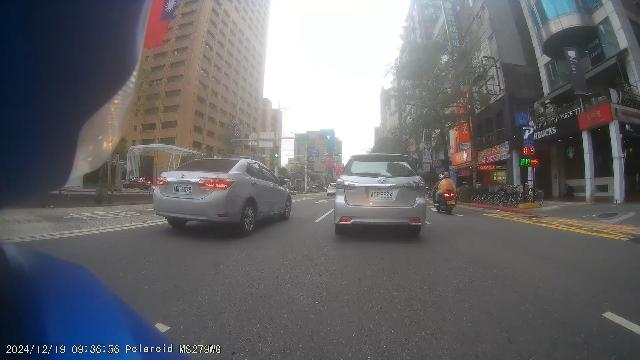plate: (368, 188, 396, 199), (171, 184, 193, 194)
